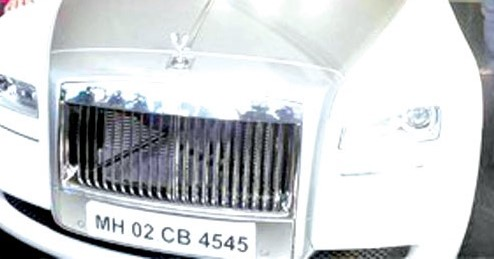MH02CB4545: (86, 199, 257, 259)
